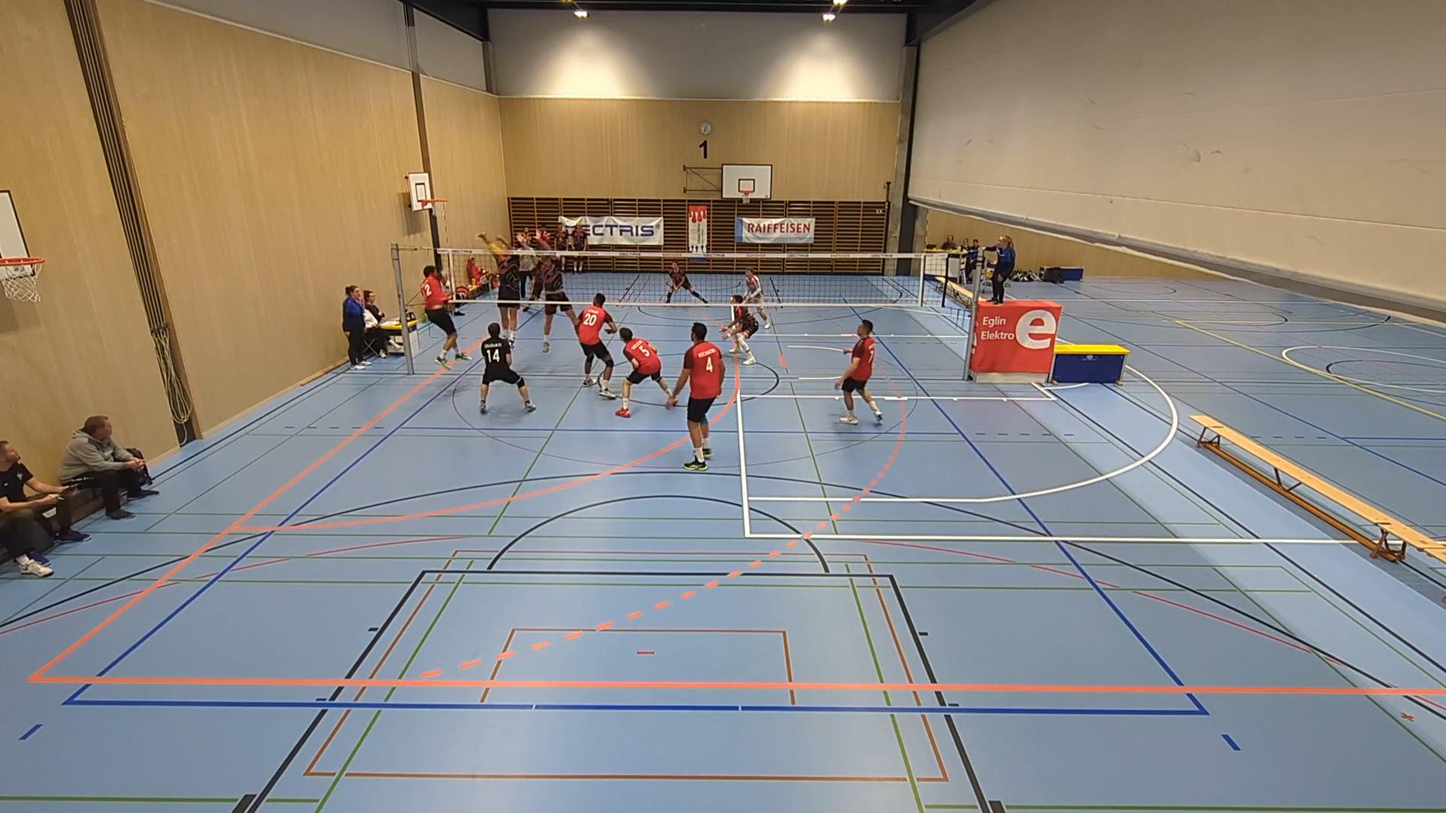Attack: (413, 257, 481, 365)
Block: (517, 223, 589, 356), (485, 230, 523, 356)
Player: (667, 322, 724, 470), (834, 319, 882, 424), (615, 327, 670, 417), (480, 323, 535, 413), (577, 294, 616, 399), (722, 294, 758, 364), (513, 232, 539, 312), (665, 262, 707, 303), (743, 269, 771, 328)
